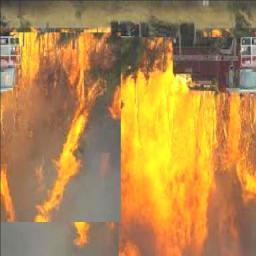Large fire: (0, 33, 256, 256)
